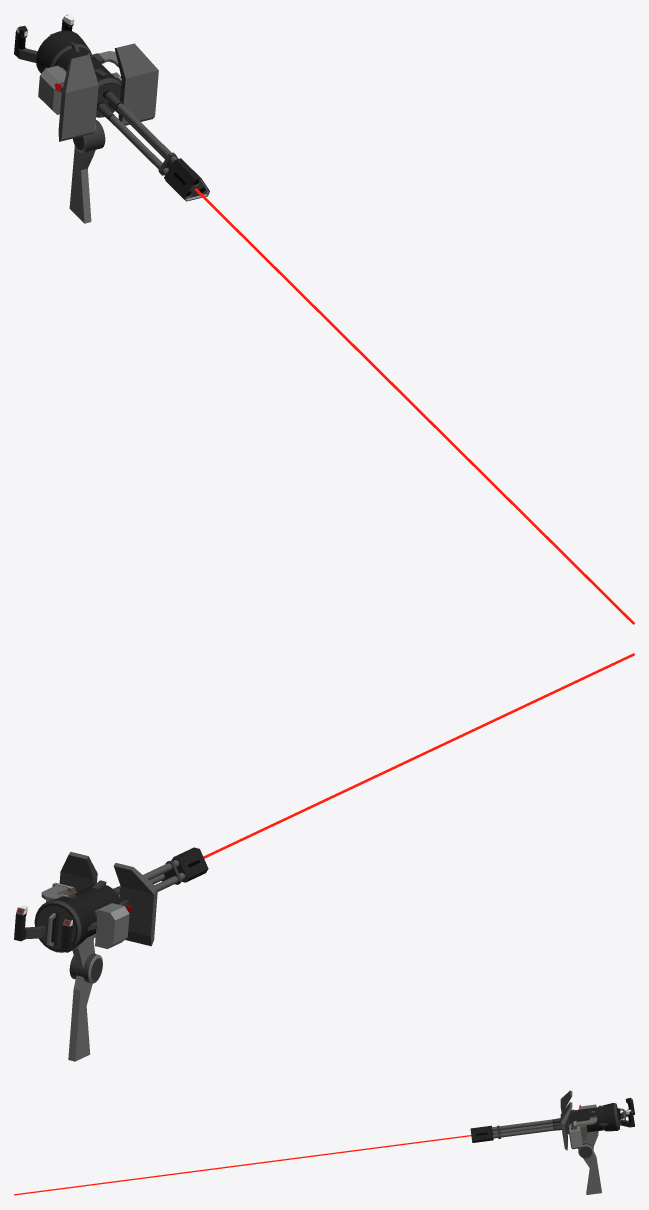
Rendered from Weapon6.fbx.
The picture shows the model from 3 angles, top to bottom: view 1: azimuth 30°, elevation 25°; view 2: azimuth 150°, elevation 25°; view 3: azimuth 270°, elevation 25°; orthographic projection. The views are drawn at different scales.
Visible parts, largest first — view 1: model, RotatingCannon, Laser; view 2: model, RotatingCannon, Laser; view 3: model, RotatingCannon, Laser.
Boxes of the visible parts, box(x1,y1,x2,y2) form: model: box(14, 14, 158, 223); RotatingCannon: box(96, 82, 209, 201); Laser: box(194, 188, 634, 624); model: box(14, 851, 157, 1061); RotatingCannon: box(113, 847, 208, 897); Laser: box(203, 653, 634, 858); model: box(560, 1090, 634, 1194); RotatingCannon: box(470, 1118, 566, 1142); Laser: box(14, 1135, 471, 1195).
Bounding box in the file's own units: 118 × 224 × 1298.
